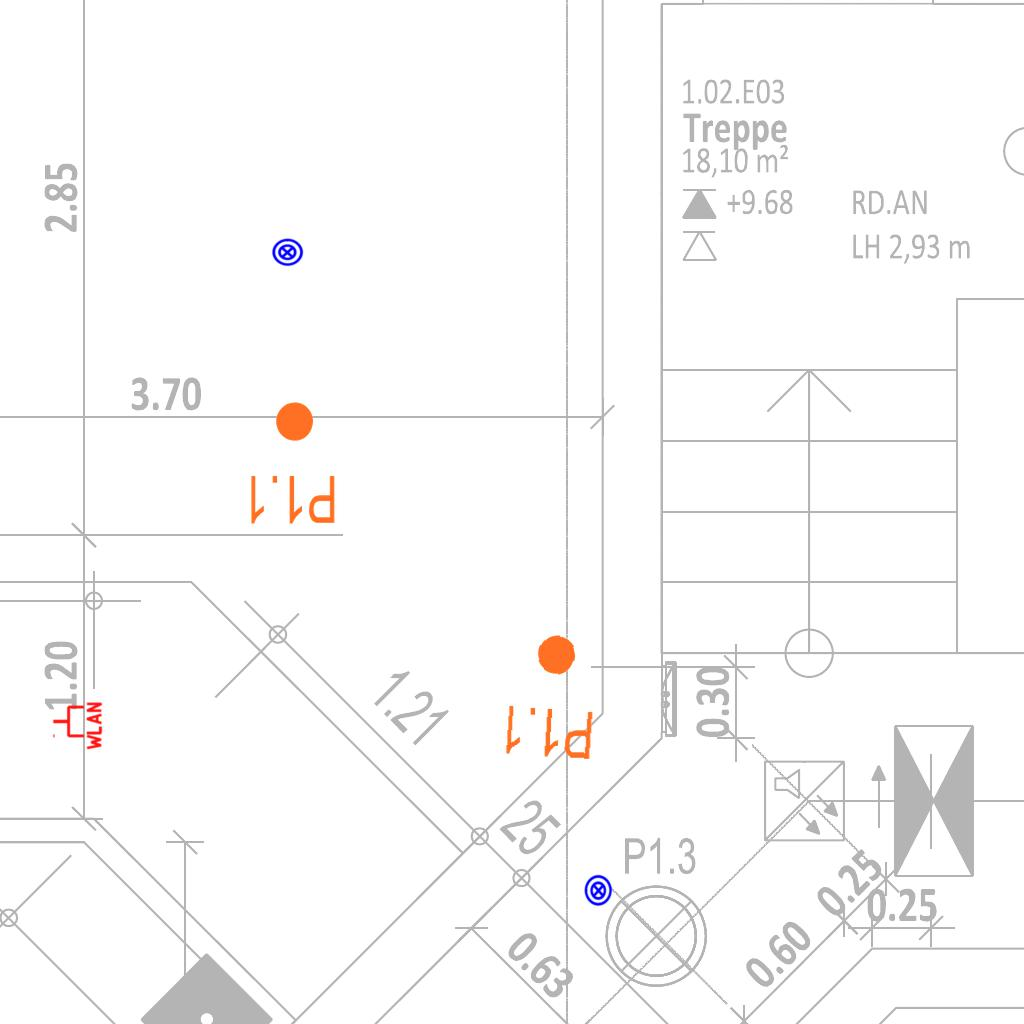Downlight_LED_Einbauleuchten_Flur: (499, 628, 602, 764), (245, 399, 338, 527)
Taster_beleuchtet: (582, 874, 615, 907), (271, 236, 304, 269)
WLAN: (51, 700, 103, 752)
